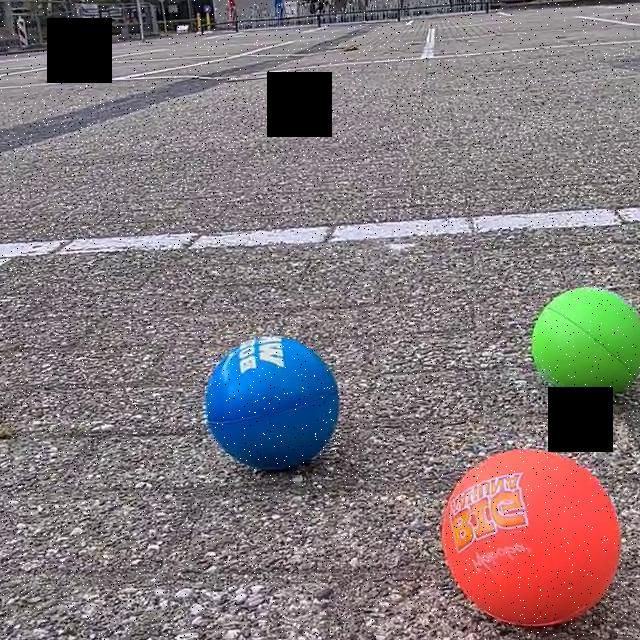ball: (200, 371, 344, 472), (528, 284, 640, 404)
